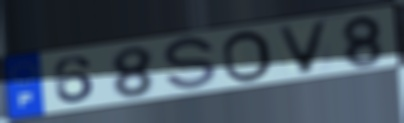6: (52, 56, 98, 105)
8: (108, 44, 156, 99), (339, 12, 384, 69)
O: (220, 29, 275, 85)
S: (162, 34, 219, 94)
V: (273, 19, 332, 76)
